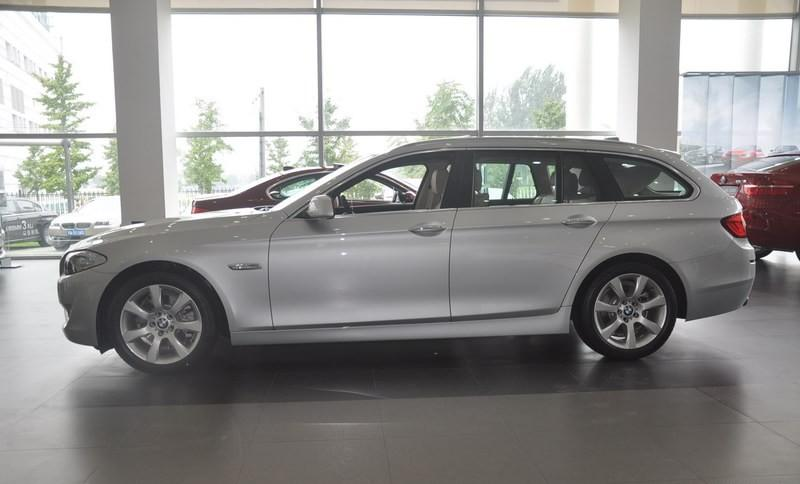Wagon: (55, 133, 758, 377)
